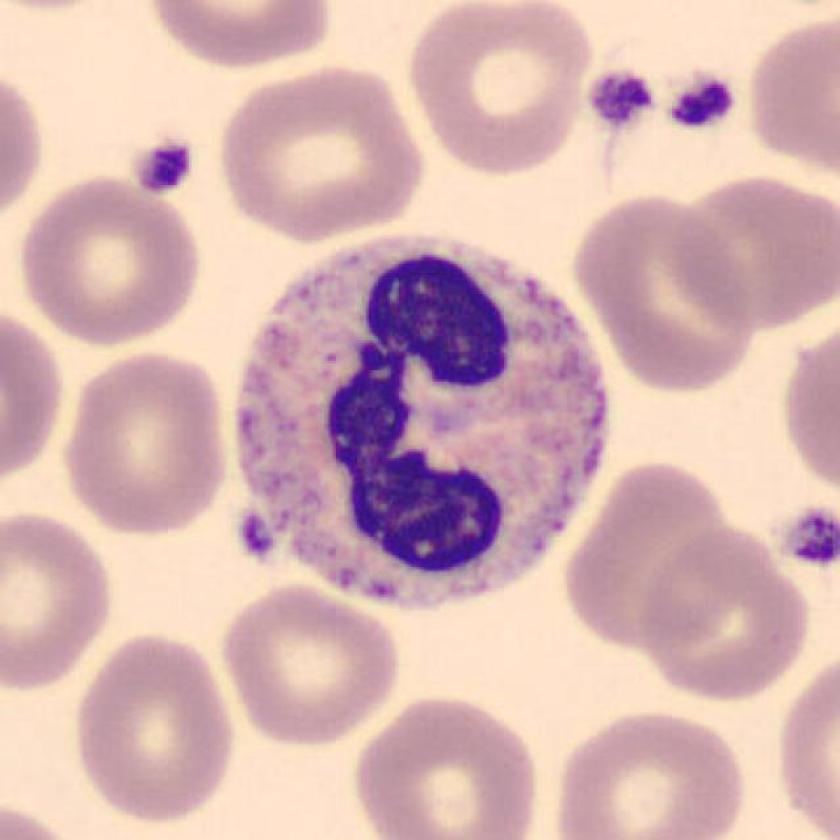neutrophil: (240, 240, 609, 606)
